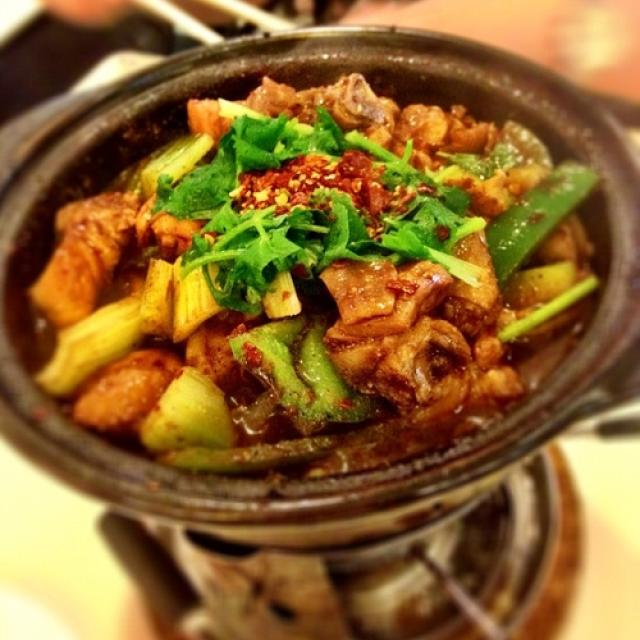汤锅炖物: (18, 23, 613, 613)
